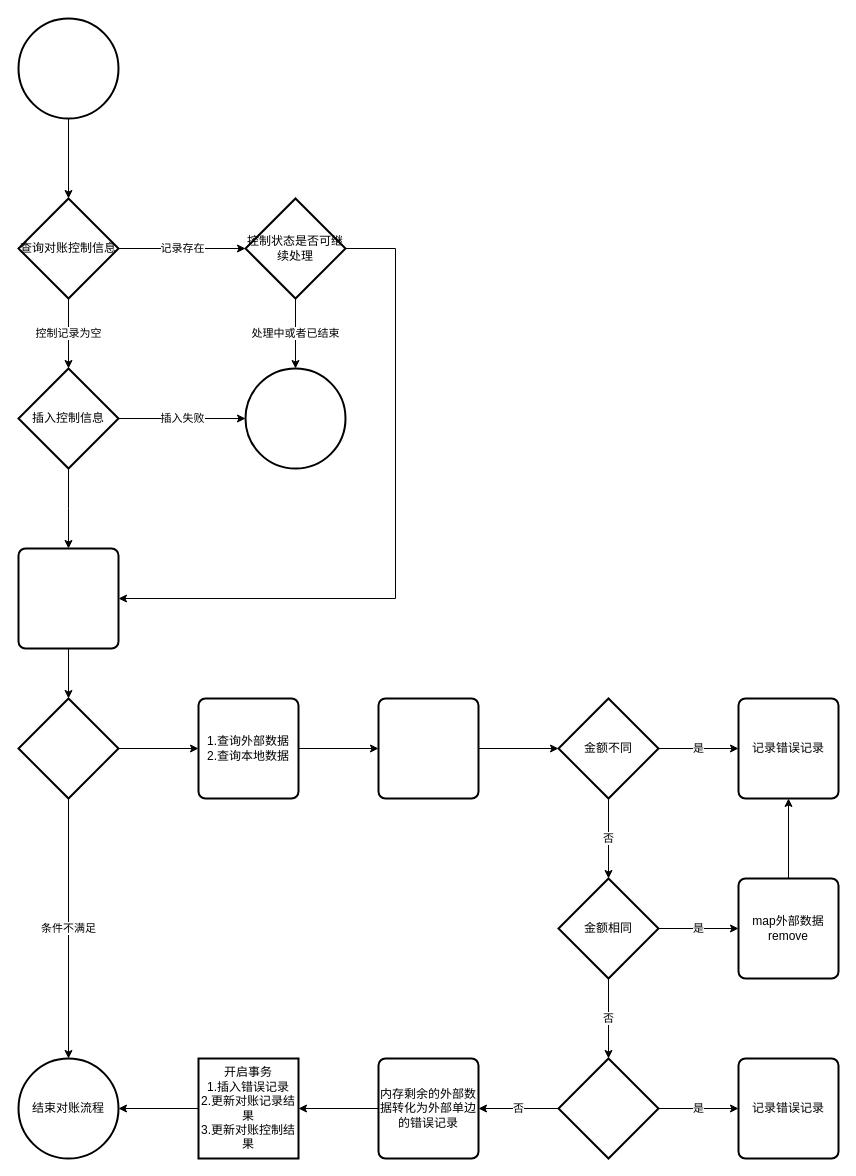
This 856x1176 diagram has some shape labels left out. Here are the shapes that lost their labels. From the top down, the box of each, then its label:
(17, 17, 119, 119): 任务开始
(244, 367, 346, 469): 对账流程结束
(17, 547, 119, 649): 触发对账流程
(17, 697, 119, 799): 1.判断对账控制记录 2.乐观锁更新
(377, 697, 479, 799): 遍历本地数据获取相同key的外部数据
(557, 1057, 659, 1159): 无对应外部数据
